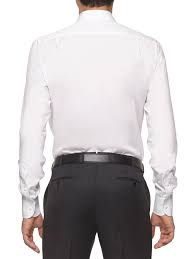F_belt: (43, 147, 155, 179)
F_dress pants: (36, 168, 161, 256)
F_shirt: (8, 9, 188, 222)
